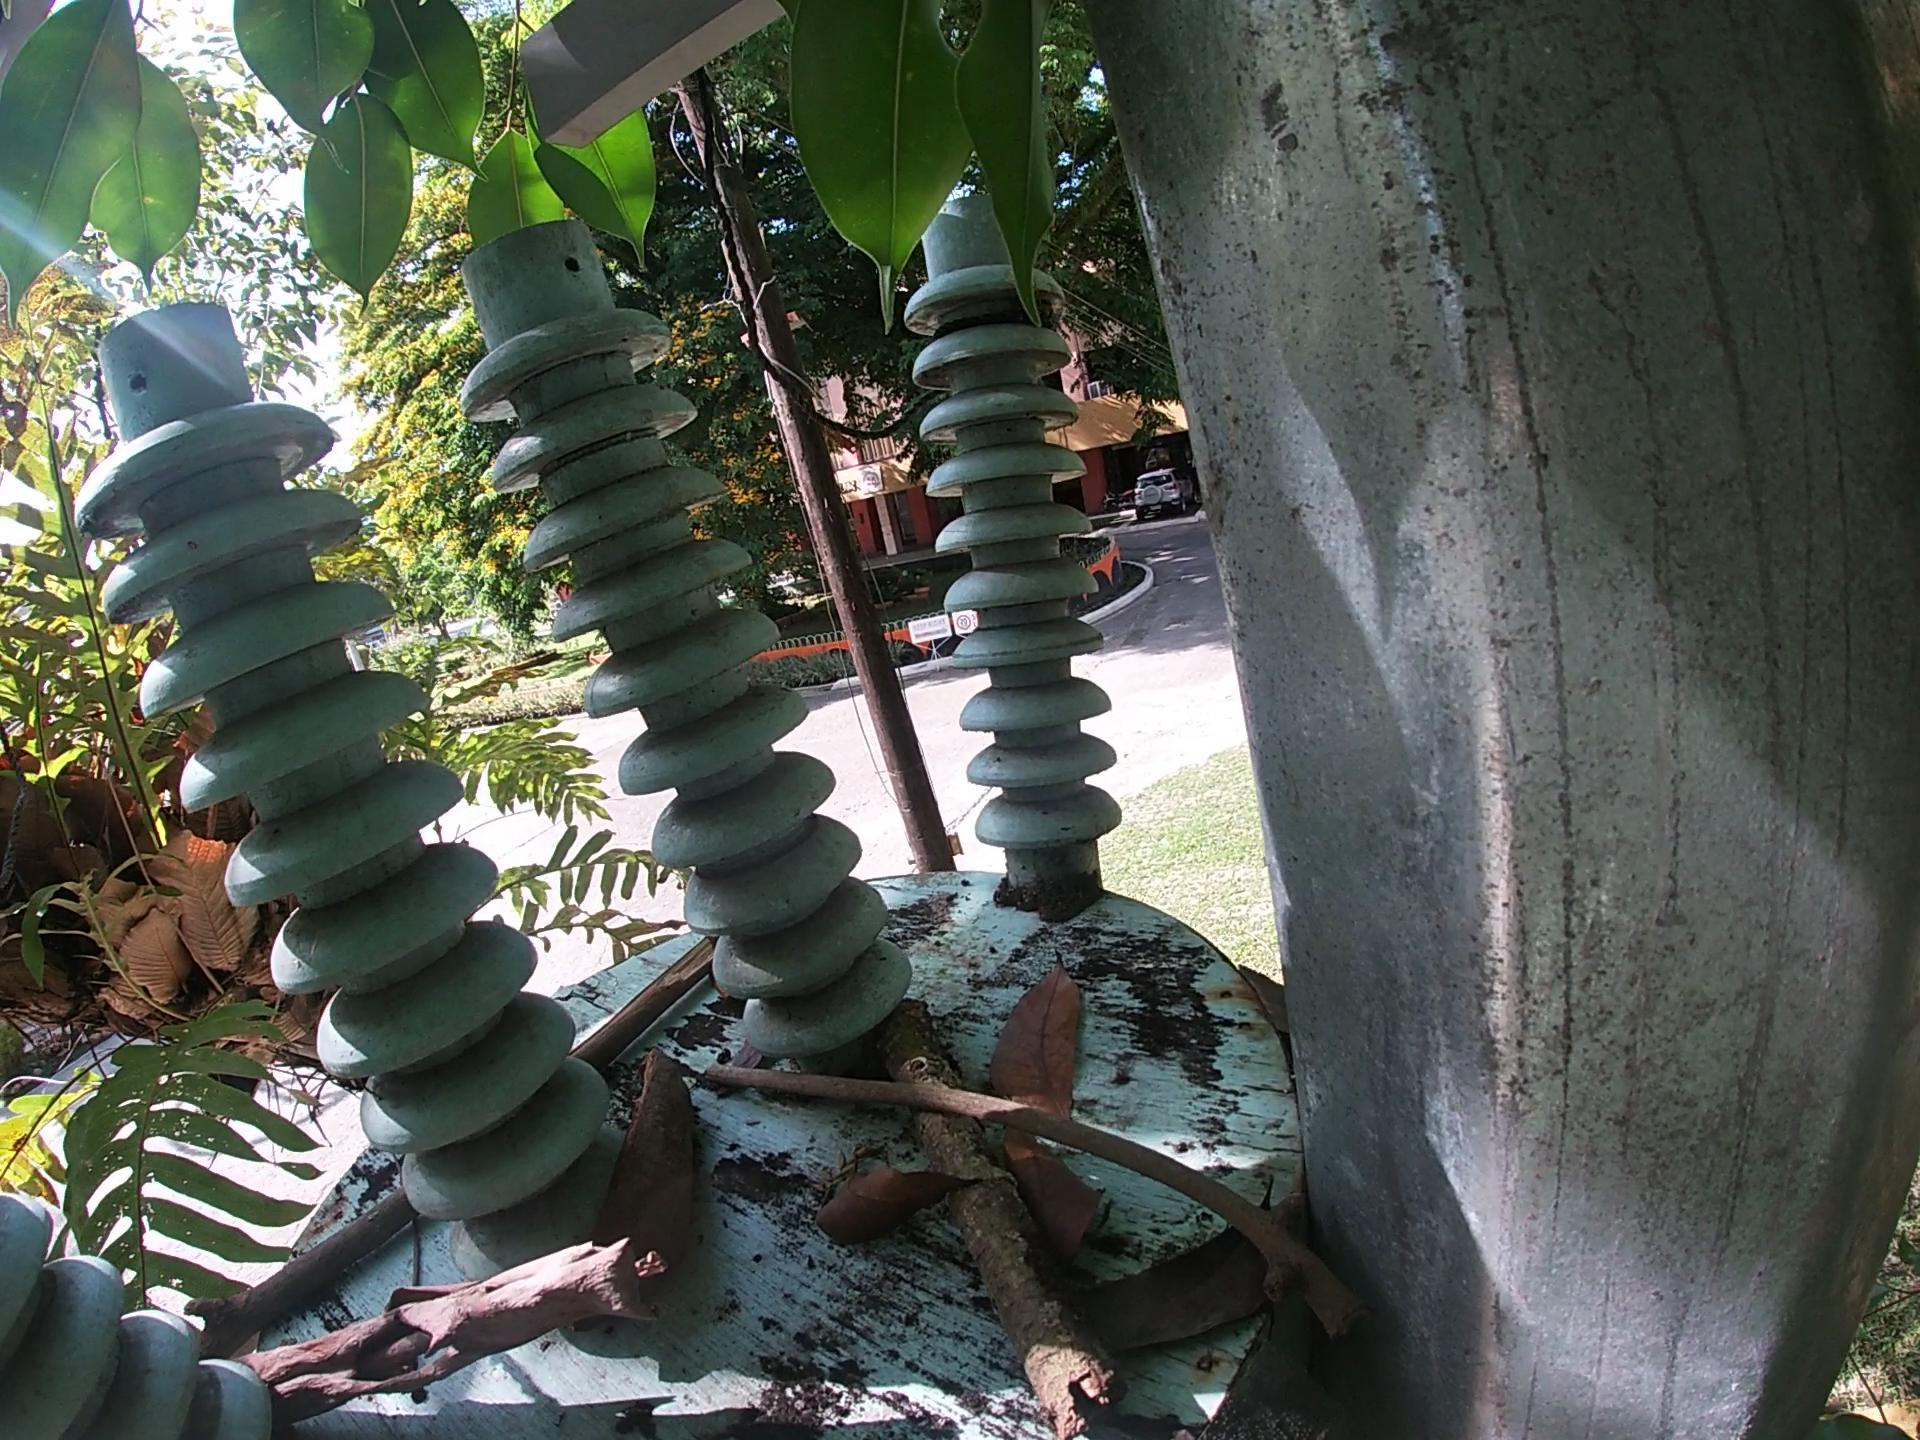leaf: (1079, 1175, 1284, 1364), (809, 1145, 981, 1258), (992, 1119, 1101, 1272), (989, 959, 1089, 1122)
mahogany fruit: (578, 1044, 708, 1342)
tree branch: (694, 1050, 1377, 1345), (872, 992, 1128, 1435), (228, 1233, 677, 1423), (180, 1181, 426, 1361), (571, 935, 729, 1078)
